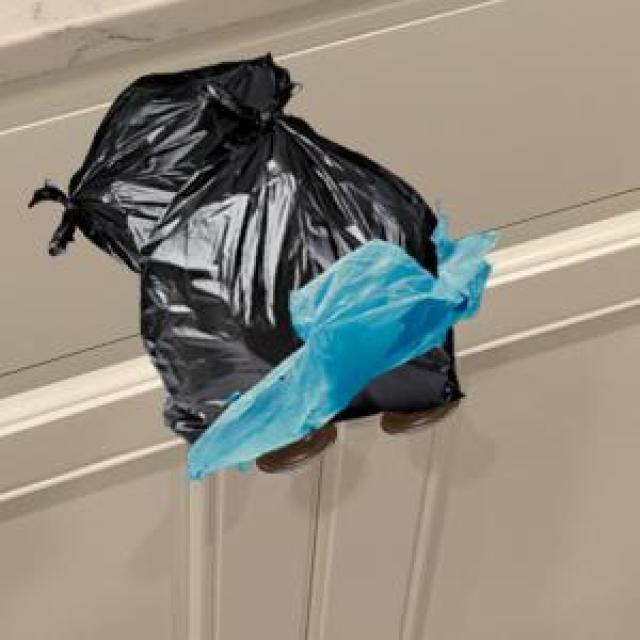miscellaneous trash: (134, 56, 460, 442), (27, 51, 271, 271)
